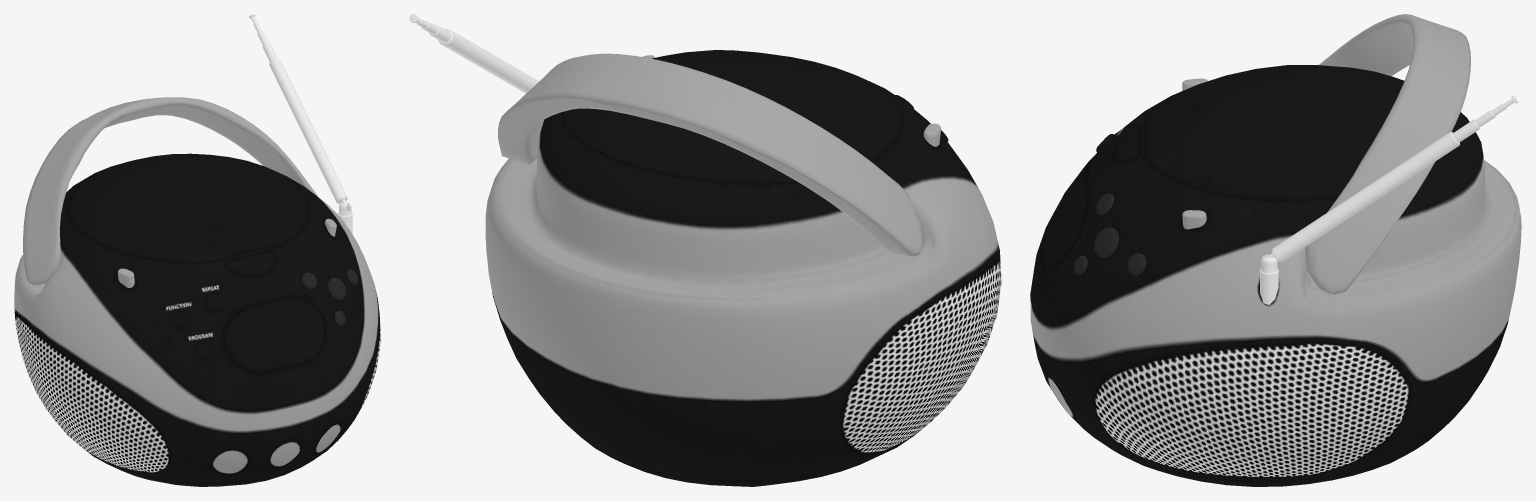
File: BoomBox.glb
3 views of the same model, side by side, from view 1: azimuth 30°, elevation 25°; view 2: azimuth 150°, elevation 25°; view 3: azimuth 270°, elevation 25° (orthographic). The views are drawn at different scales.
Parts seen in each view (by area): view 1: BoomBox; view 2: BoomBox; view 3: BoomBox.
Boxes of the visible parts, left/top/right/bottom form: BoomBox: left=14, top=14, right=380, bottom=486; BoomBox: left=409, top=14, right=1001, bottom=486; BoomBox: left=1030, top=14, right=1521, bottom=486.
Bounding box in the file's own units: 0.0198 × 0.0195 × 0.0202.
1 material, 1 textured.
